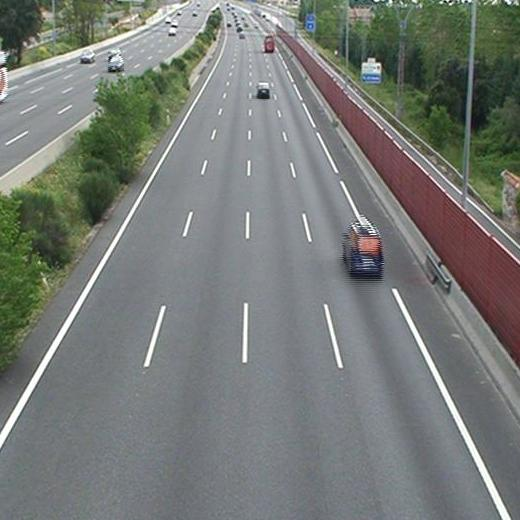bus: (264, 35, 275, 52)
car: (257, 83, 269, 96)
van: (345, 225, 383, 273)
